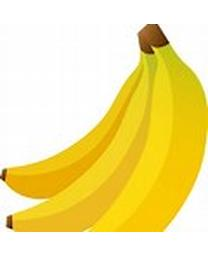banana: (1, 23, 207, 233)
